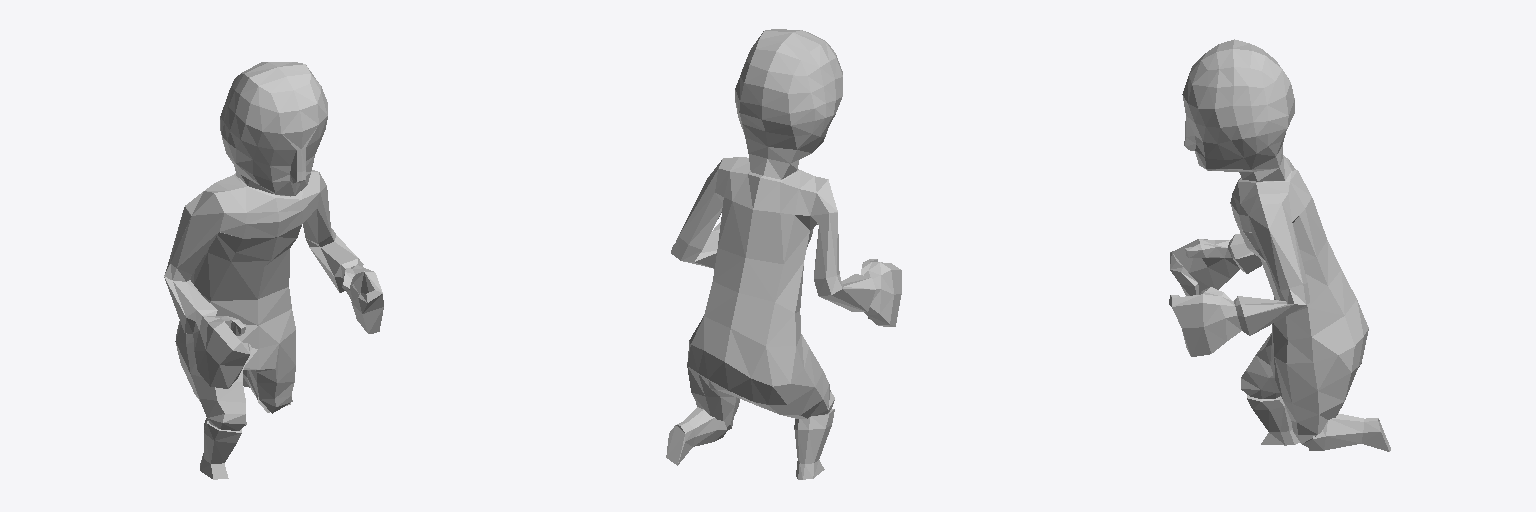
The model's file is KnightCharacter6.obj.
The picture shows the model from 3 angles: view 1: azimuth 30°, elevation 25°; view 2: azimuth 150°, elevation 25°; view 3: azimuth 270°, elevation 25°; orthographic projection.
Visible parts, largest first — view 1: Knight; view 2: Knight; view 3: Knight.
Boxes of the visible parts, box(x1,y1,x2,y2) form: Knight: box(164, 62, 383, 479); Knight: box(666, 29, 901, 479); Knight: box(1169, 39, 1390, 451).
Bounding box in the file's own units: 2.35 × 5.15 × 2.52.